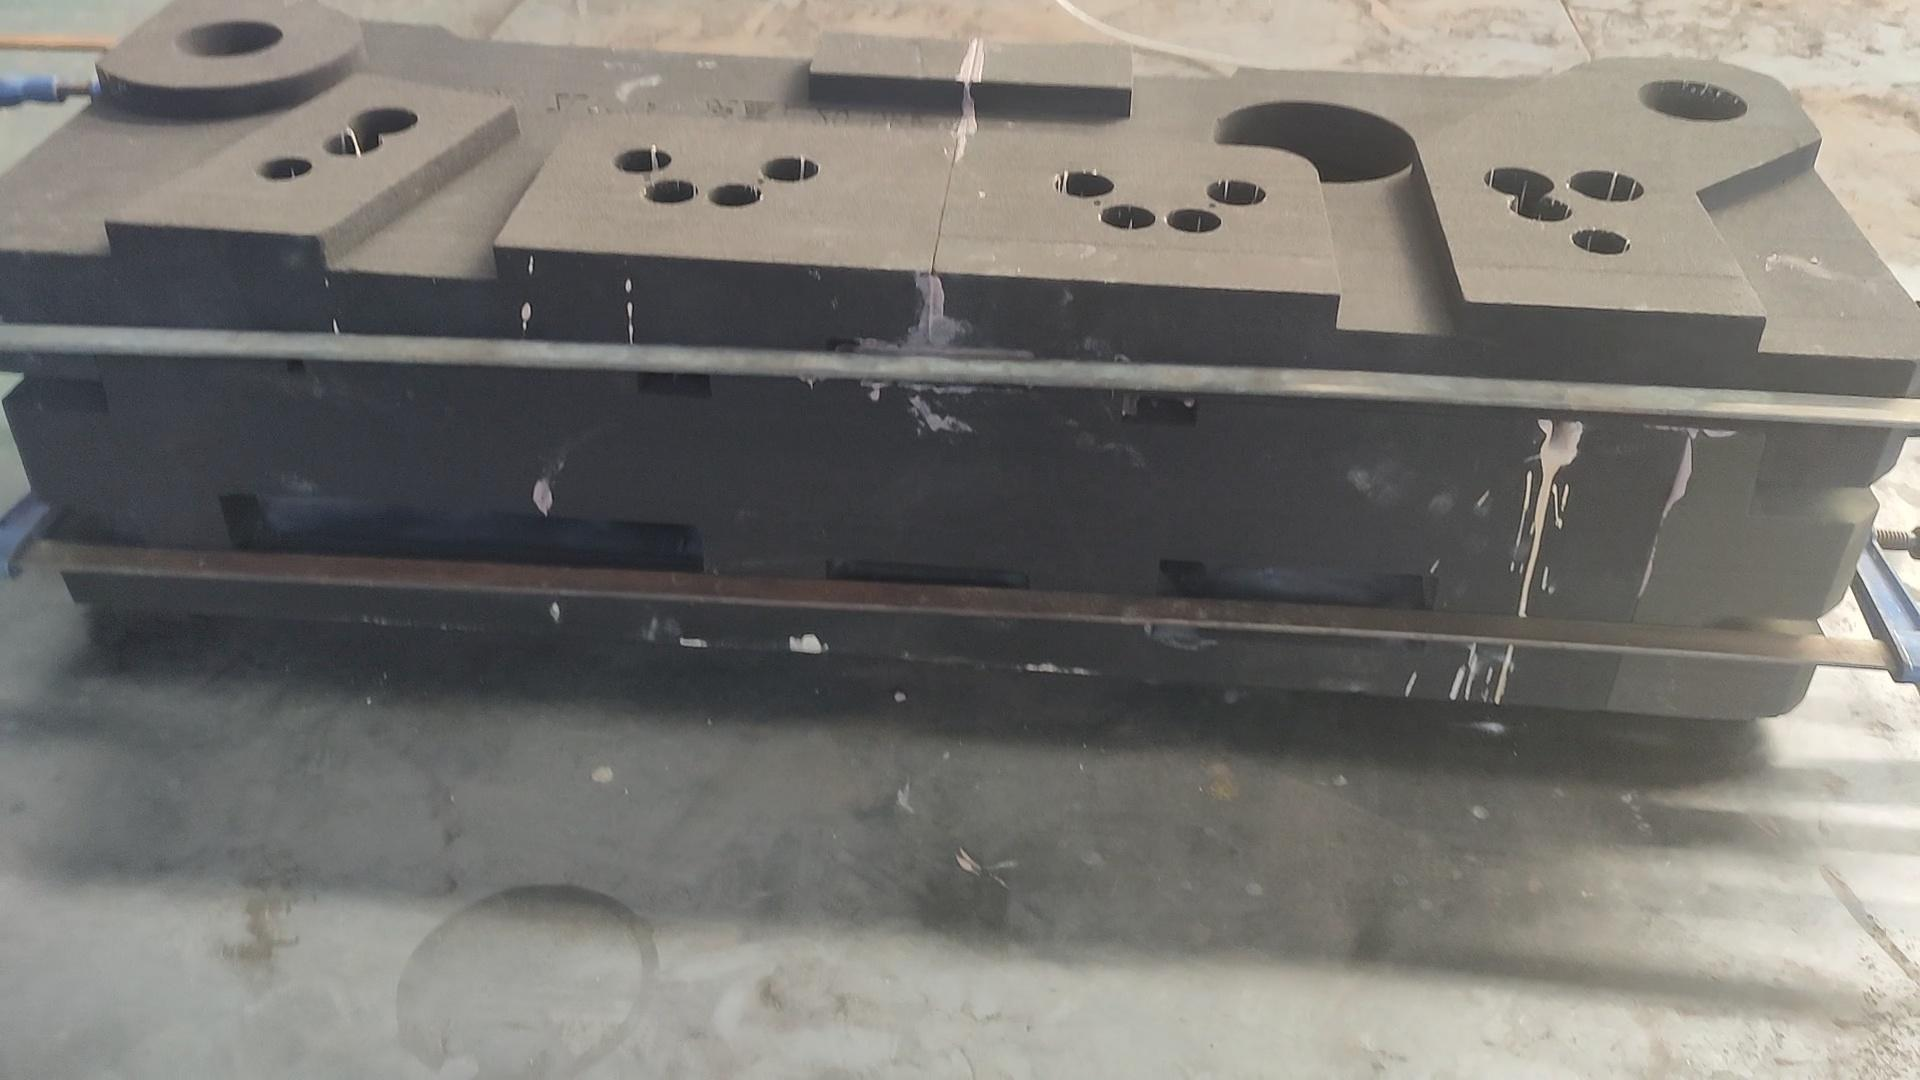pouring hole: (1640, 80, 1747, 121), (175, 20, 284, 58)
